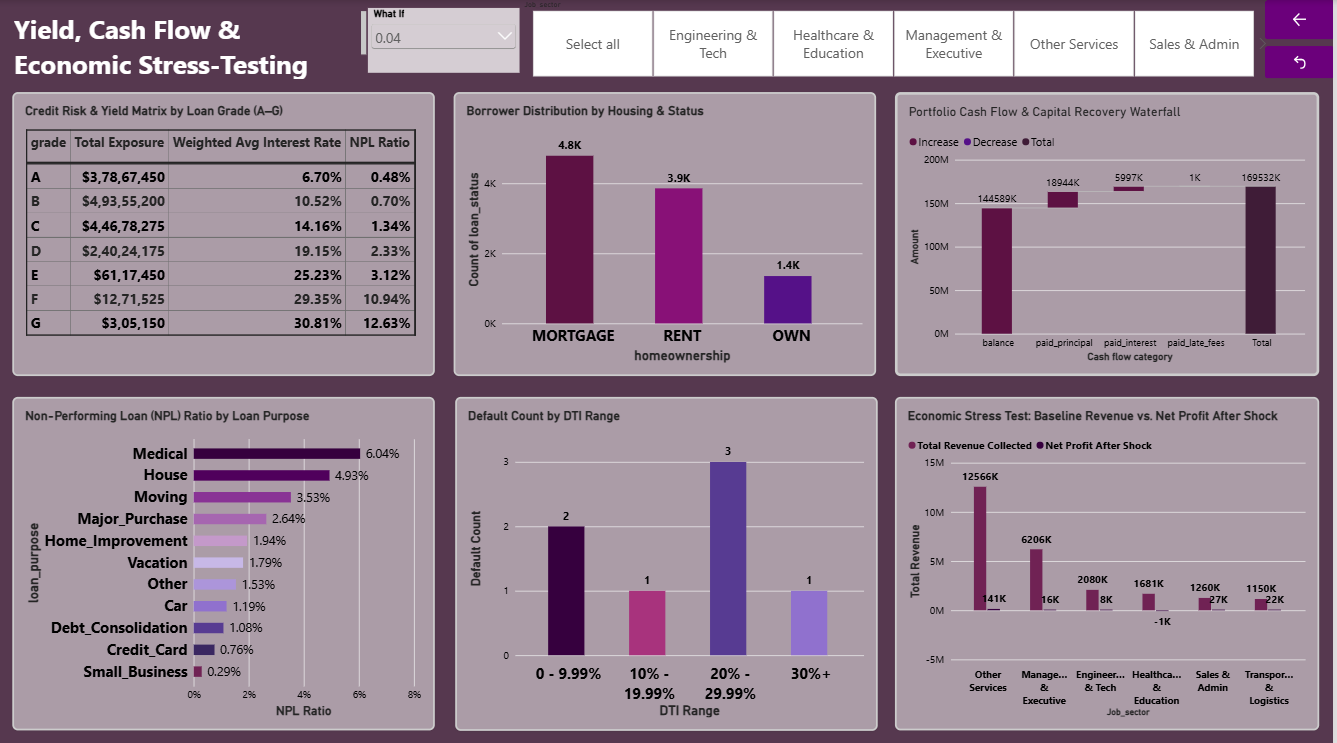

The dashboard page shown, as its layout file describes it:
{"tool":"powerbi","page":{"name":"Page 2","canvas":[1920,1080],"ordinal":1},"visuals":[{"type":"tableEx","title":"Credit Risk & Yield Matrix by Loan Grade (A–G)","fields":{"Values":["loans_full_schema.grade","loans_full_schema.Total Exposure","loans_full_schema.Weighted Avg Interest Rate","loans_full_schema.NPL Ratio"]},"box":[20.4,132.6,607.1,408.1],"z":0},{"type":"clusteredBarChart","title":"Non-Performing Loan (NPL) Ratio by Loan Purpose","fields":{"Category":["loans_full_schema.loan_purpose"],"Y":["loans_full_schema.NPL Ratio"]},"box":[20.4,571.4,607.1,479.6],"z":1000},{"type":"waterfallChart","title":"Portfolio Cash Flow & Capital Recovery Waterfall","fields":{"Category":["Cash_Flow_Summary.Cash flow category"],"Y":["Sum(Cash_Flow_Summary.Value)"]},"box":[1288.2,132.6,609.7,408.1],"z":2000},{"type":"clusteredColumnChart","title":"Economic Stress Test: Baseline Revenue vs. Net Profit After Shock","fields":{"Category":["loans_full_schema.Job_sector"],"Y":["loans_full_schema.Total Revenue Collected","loans_full_schema.Net Profit After Shock"]},"box":[1288.2,571.4,609.7,479.6],"z":3000},{"type":"clusteredColumnChart","title":"Borrower Distribution by Housing & Status","fields":{"Category":["loans_full_schema.homeownership"],"Y":["CountNonNull(loans_full_schema.loan_status)"]},"box":[655.6,132.6,607.1,408.1],"z":5000},{"type":"slicer","fields":{"Values":["loans_full_schema.Job_sector"]},"box":[748.9,0,1075.4,111.4],"z":6000},{"type":"textbox","box":[23.3,16.7,506.7,96.7],"z":7000},{"type":"actionButton","box":[1820,66.7,100,46.7],"z":7001},{"type":"actionButton","box":[1820,0,100,56.7],"z":7002},{"type":"slicer","fields":{"Values":["Default_Rate_Shock.Value"]},"box":[531.2,10.4,217.7,93.3],"z":7003},{"type":"clusteredColumnChart","fields":{"Category":["loans_full_schema.DTI Range"],"Y":["Cash_Flow_Summary.Default Count"]},"box":[656,571,607,480],"z":7004}]}

Visuals, with their boxes in screenshot pixels (x1, y1, x2, y2), scaled from the page's 1920x1080 canvas onto the 1337x743 screenshot:
"Credit Risk & Yield Matrix by Loan Grade (A–G)" tableEx: crop(14, 91, 437, 372)
"Non-Performing Loan (NPL) Ratio by Loan Purpose" clusteredBarChart: crop(14, 393, 437, 723)
"Portfolio Cash Flow & Capital Recovery Waterfall" waterfallChart: crop(897, 91, 1322, 372)
"Economic Stress Test: Baseline Revenue vs. Net Profit After Shock" clusteredColumnChart: crop(897, 393, 1322, 723)
"Borrower Distribution by Housing & Status" clusteredColumnChart: crop(457, 91, 879, 372)
slicer - loans_full_schema.Job_sector: crop(521, 0, 1270, 77)
textbox: crop(16, 11, 369, 78)
actionButton: crop(1267, 46, 1336, 78)
actionButton: crop(1267, 0, 1336, 39)
slicer - Default_Rate_Shock.Value: crop(370, 7, 521, 71)
clusteredColumnChart - loans_full_schema.DTI Range x Cash_Flow_Summary.Default Count: crop(457, 393, 879, 723)
